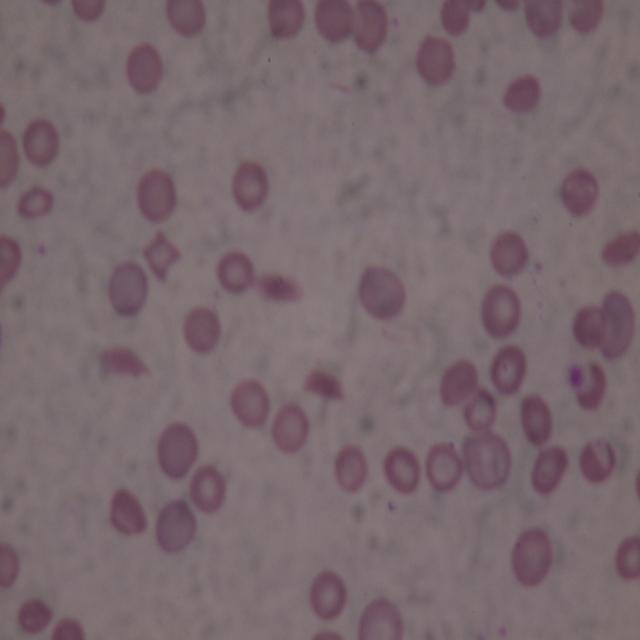Crystal: (255, 270, 302, 312), (306, 364, 348, 411), (600, 224, 640, 268), (99, 345, 151, 378)
Normal: (482, 281, 520, 339), (231, 159, 270, 214), (22, 117, 61, 169), (489, 343, 528, 395), (382, 445, 422, 494), (425, 444, 464, 494), (216, 248, 255, 297), (188, 463, 225, 514), (310, 571, 346, 622), (462, 387, 497, 430), (614, 534, 640, 578)
Others: (356, 263, 408, 320), (462, 430, 507, 490), (599, 287, 635, 362), (512, 525, 554, 589), (227, 376, 271, 432), (156, 421, 198, 478), (137, 165, 176, 225), (559, 164, 599, 222), (155, 496, 195, 554), (348, 0, 390, 55), (109, 260, 148, 319), (414, 36, 458, 86), (106, 486, 148, 538), (357, 593, 403, 640), (269, 400, 309, 454), (532, 441, 570, 496), (578, 437, 616, 491), (142, 230, 182, 280), (438, 357, 476, 407), (491, 228, 529, 278), (522, 0, 566, 42), (502, 70, 542, 116), (184, 304, 220, 352), (566, 0, 608, 41), (314, 0, 354, 43), (127, 44, 160, 96), (521, 394, 556, 443), (334, 443, 366, 496), (267, 0, 306, 41), (18, 597, 56, 638), (165, 0, 207, 36), (572, 304, 604, 347), (15, 185, 56, 218), (0, 126, 19, 188), (441, 1, 472, 34), (0, 542, 21, 589), (0, 235, 20, 283)
Sickle: (576, 364, 610, 412)
